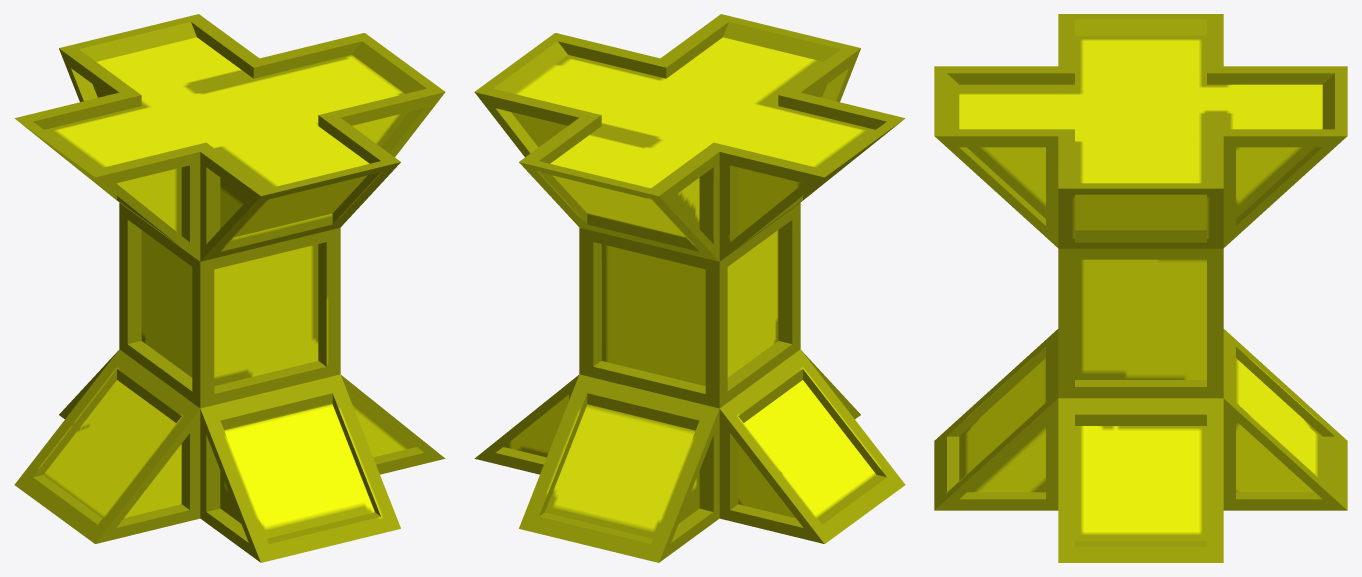
The model's file is Sand.fbx.
3 renders of one model, left to right at view 1: azimuth 30°, elevation 25°; view 2: azimuth 150°, elevation 25°; view 3: azimuth 270°, elevation 25°, orthographic. The views are drawn at different scales.
Visible parts, largest first — view 1: Sand; view 2: Sand; view 3: Sand.
Boxes of the visible parts, box(x1,y1,x2,y2) form: Sand: box(14, 14, 445, 562); Sand: box(474, 14, 905, 562); Sand: box(934, 14, 1347, 562).
Bounding box in the file's own units: 1 × 1 × 1.
Materials: 1 (1 with a texture image).
